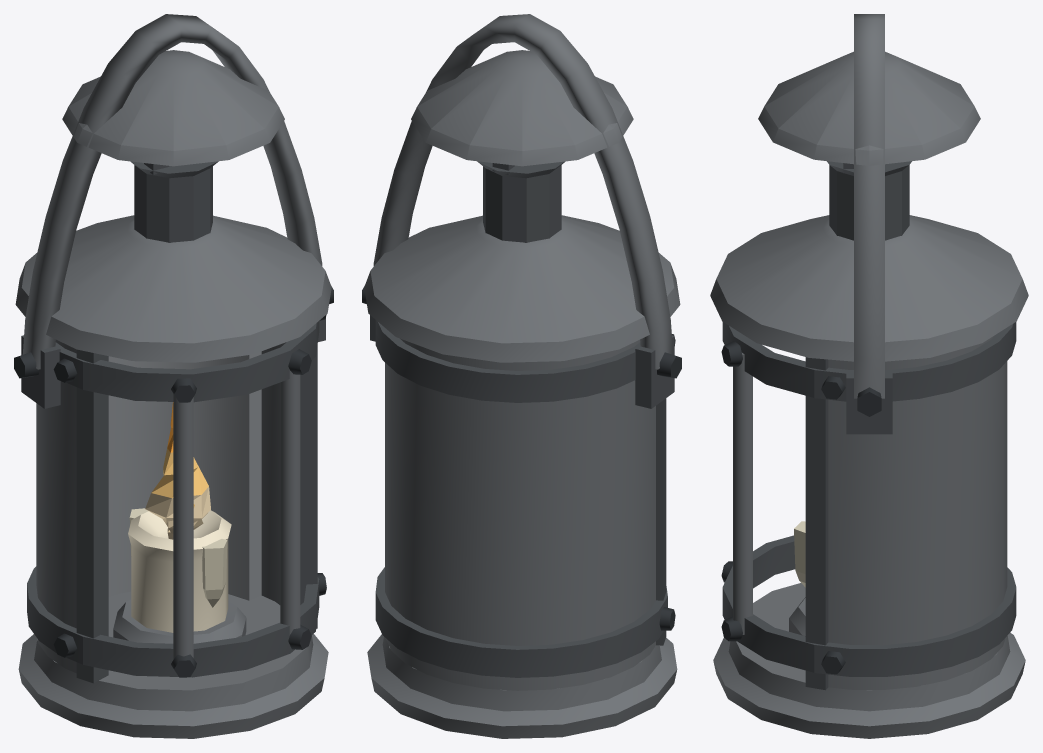
The model's file is SM_LPD_Light_LanternHooded_01.fbx.
3 views of the same model, side by side, from view 1: azimuth 30°, elevation 25°; view 2: azimuth 150°, elevation 25°; view 3: azimuth 270°, elevation 25° (orthographic).
Visible parts, largest first — view 1: SM_LPD_Light_LanternHooded_01; view 2: SM_LPD_Light_LanternHooded_01; view 3: SM_LPD_Light_LanternHooded_01.
Boxes of the visible parts, <box> form: SM_LPD_Light_LanternHooded_01: <box>14,14,333,738</box>; SM_LPD_Light_LanternHooded_01: <box>362,14,681,738</box>; SM_LPD_Light_LanternHooded_01: <box>710,14,1028,738</box>.
Size of the model in its own units: 0.23 by 0.467 by 0.206.
